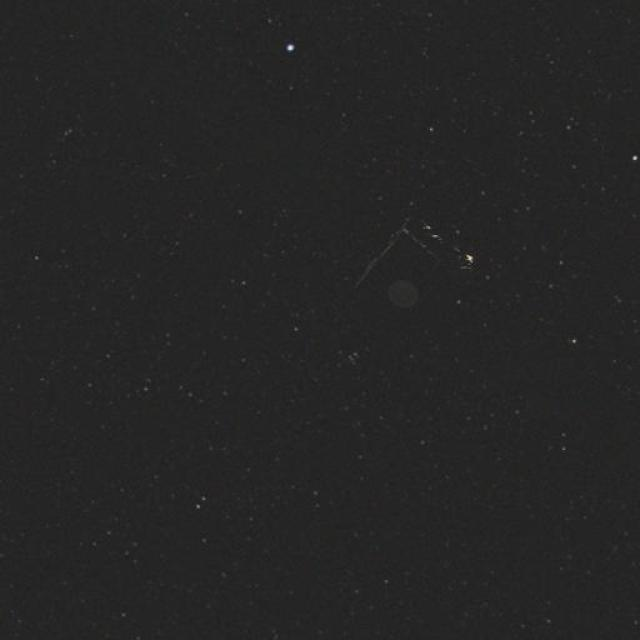smart_1: (325, 148, 499, 364)
